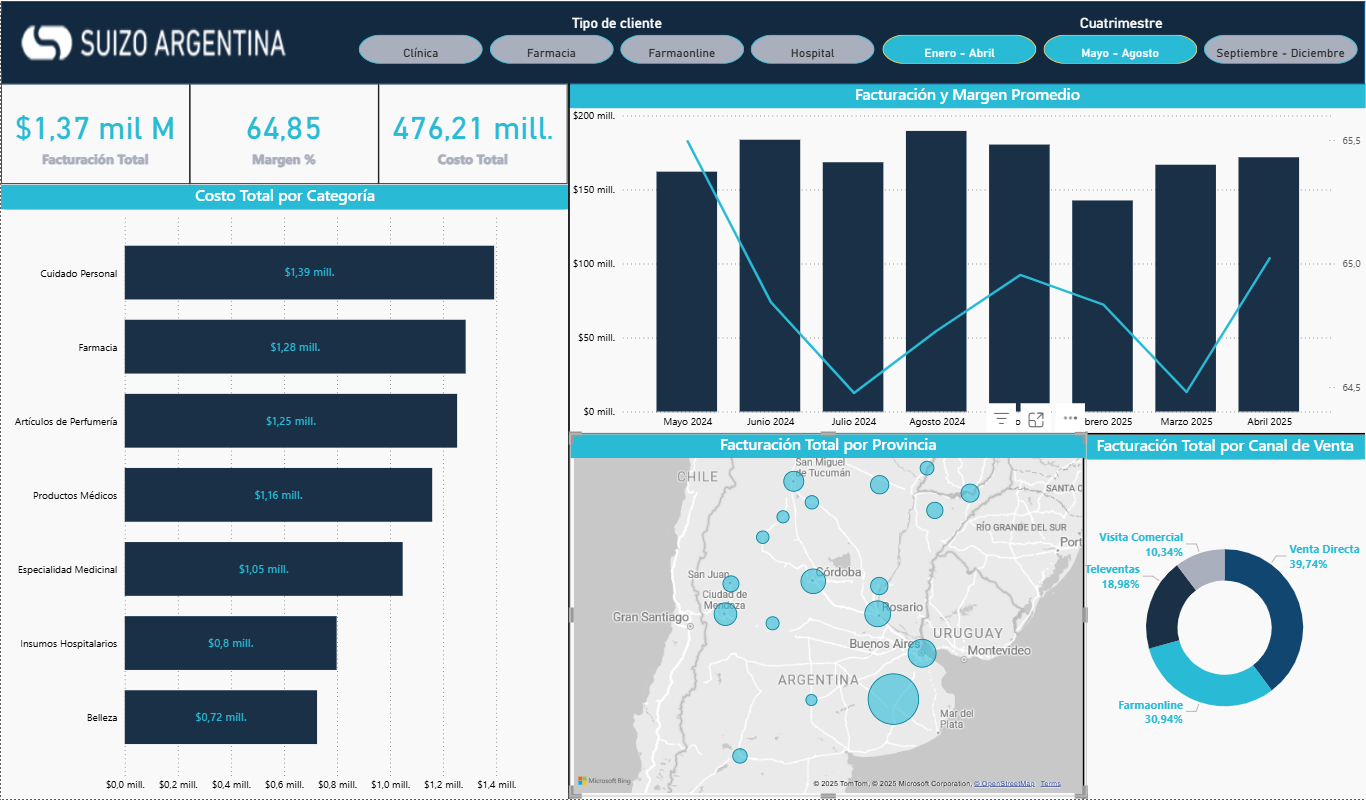

The page's visual inventory and layout, read from the dashboard file:
{"tool":"powerbi","page":{"name":"Resumen Ejecutivo","canvas":[1640,960],"ordinal":0},"visuals":[{"type":"card","fields":{"Values":["detalle_ventas.Ventas Totales"]},"box":[0,99.5,227.2,121.1],"z":0},{"type":"card","fields":{"Values":["productos.Margen %"]},"box":[227.2,99.5,227.2,121.1],"z":1000},{"type":"card","fields":{"Values":["productos.Costo Total"]},"box":[454.5,99.5,227.2,121.1],"z":2000},{"type":"lineClusteredColumnComboChart","title":"Facturación y Margen Promedio","fields":{"Y":["detalle_ventas.Ventas Totales"],"Y2":["productos.Margen %"],"Category":["Calendario.Mes_Año"]},"box":[681.7,99.5,958.7,424.6],"z":3000},{"type":"map","title":"Facturación Total por Provincia","fields":{"Size":["detalle_ventas.Ventas Totales por Provincia"],"Y":["ProvinciaDim.Lat"],"X":["ProvinciaDim.Lon"]},"box":[0,220.6,681.7,739.7],"z":4000},{"type":"clusteredBarChart","title":"Facturación Total por Categoría","fields":{"Y":["detalle_ventas.Ventas Totales"],"Category":["productos.categoria"]},"box":[681.7,520.8,622,439.5],"z":5000},{"type":"donutChart","title":"Facturación Total por Canal de Venta","fields":{"Y":["detalle_ventas.Ventas Totales"],"Category":["ventas.canal_venta"]},"box":[1303.7,520.8,336.7,439.5],"z":6000},{"type":"shape","box":[0,0,1640,100],"z":7000},{"type":"image","box":[0,15,368.3,70],"z":8000},{"type":"advancedSlicerVisual","fields":{"Values":["Calendario.Cuatrimestre"]},"box":[1054.9,16.6,583.8,64.7],"z":9000},{"type":"advancedSlicerVisual","title":"Tipo de cliente","fields":{"Values":["ventas.TipoCliente_Expandido"]},"box":[424.6,16.6,630.3,64.7],"z":10000},{"type":"shape","box":[682.2,516.7,957.8,6.7],"z":11000},{"type":"shape","box":[668.4,99.5,28.2,860.8],"z":12000},{"type":"shape","box":[1292.1,520.8,24.9,439.5],"z":13000}]}

Visuals, with their boxes in screenshot pixels (x1, y1, x2, y2), scaled from the page's 1640x960 canvas onto the 1366x800 screenshot:
card - detalle_ventas.Ventas Totales: 0/83/189/184
card - productos.Margen %: 189/83/378/184
card - productos.Costo Total: 379/83/568/184
"Facturación y Margen Promedio" lineClusteredColumnComboChart: 568/83/1365/437
"Facturación Total por Provincia" map: 0/184/568/799
"Facturación Total por Categoría" clusteredBarChart: 568/434/1086/799
"Facturación Total por Canal de Venta" donutChart: 1086/434/1365/799
shape: 0/0/1365/83
image: 0/12/307/71
advancedSlicerVisual - Calendario.Cuatrimestre: 879/14/1365/68
"Tipo de cliente" advancedSlicerVisual: 354/14/879/68
shape: 568/431/1365/436
shape: 557/83/580/799
shape: 1076/434/1097/799
